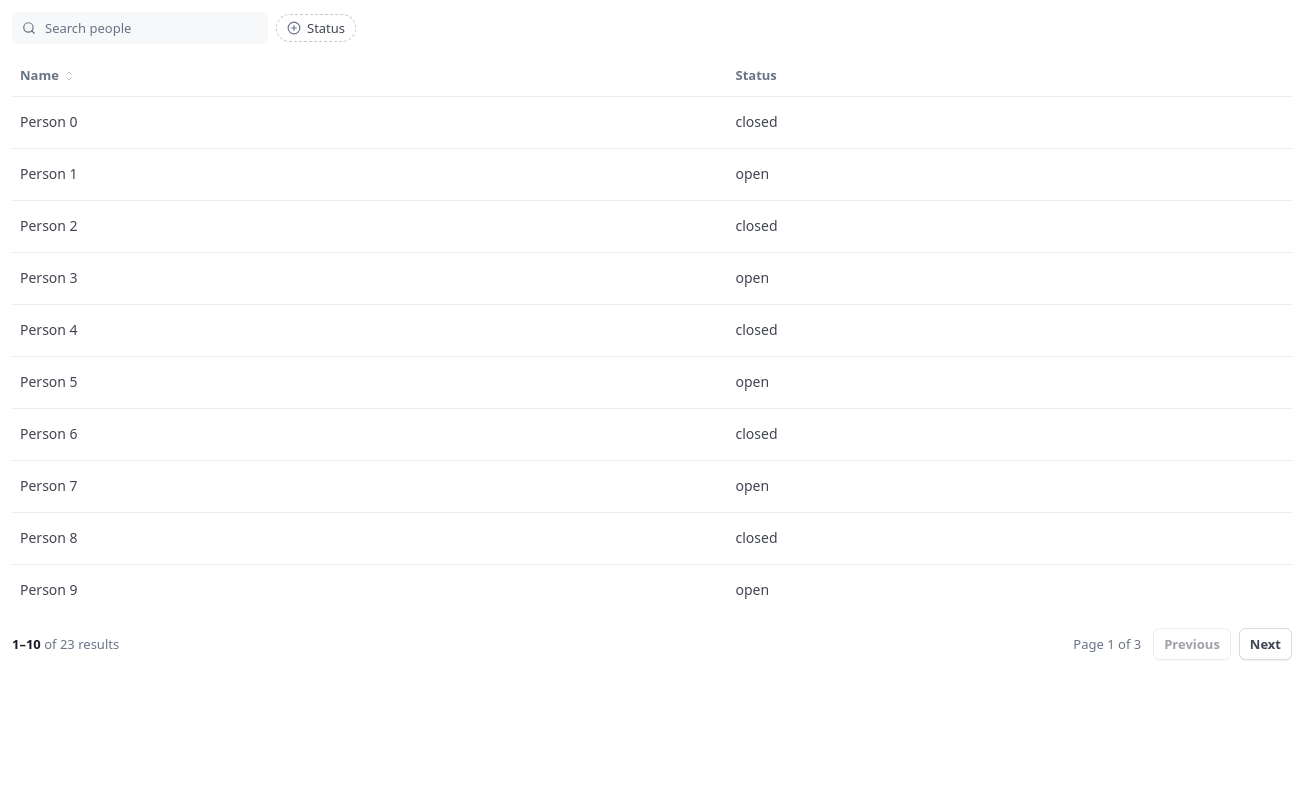
DataTable › searches, shows how many matched, and resets
Step 1. Type "Person 2" into the field labelled "Search people" → {"x": 140, "y": 28}, box [12,12,268,44]
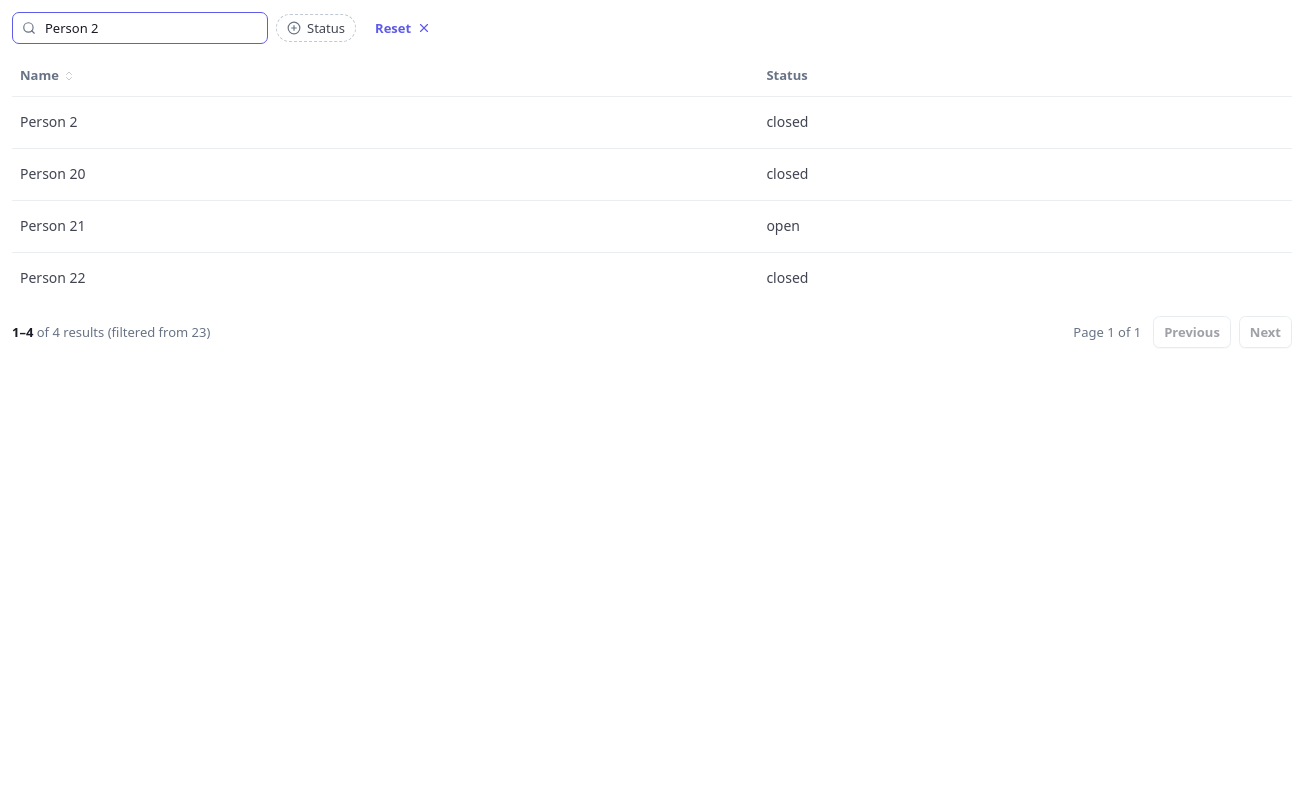
Check: the number of rows is 5, box [12,56,1292,96]; [12,96,1292,148]; [12,148,1292,200]; [12,200,1292,252]; [12,252,1292,304]
Check: the text "1–4 of 4 results (filtered from 23)" is shown, box [12,323,210,341]
Step 2. Click the button "Reset" → {"x": 403, "y": 28}, box [364,14,442,42]
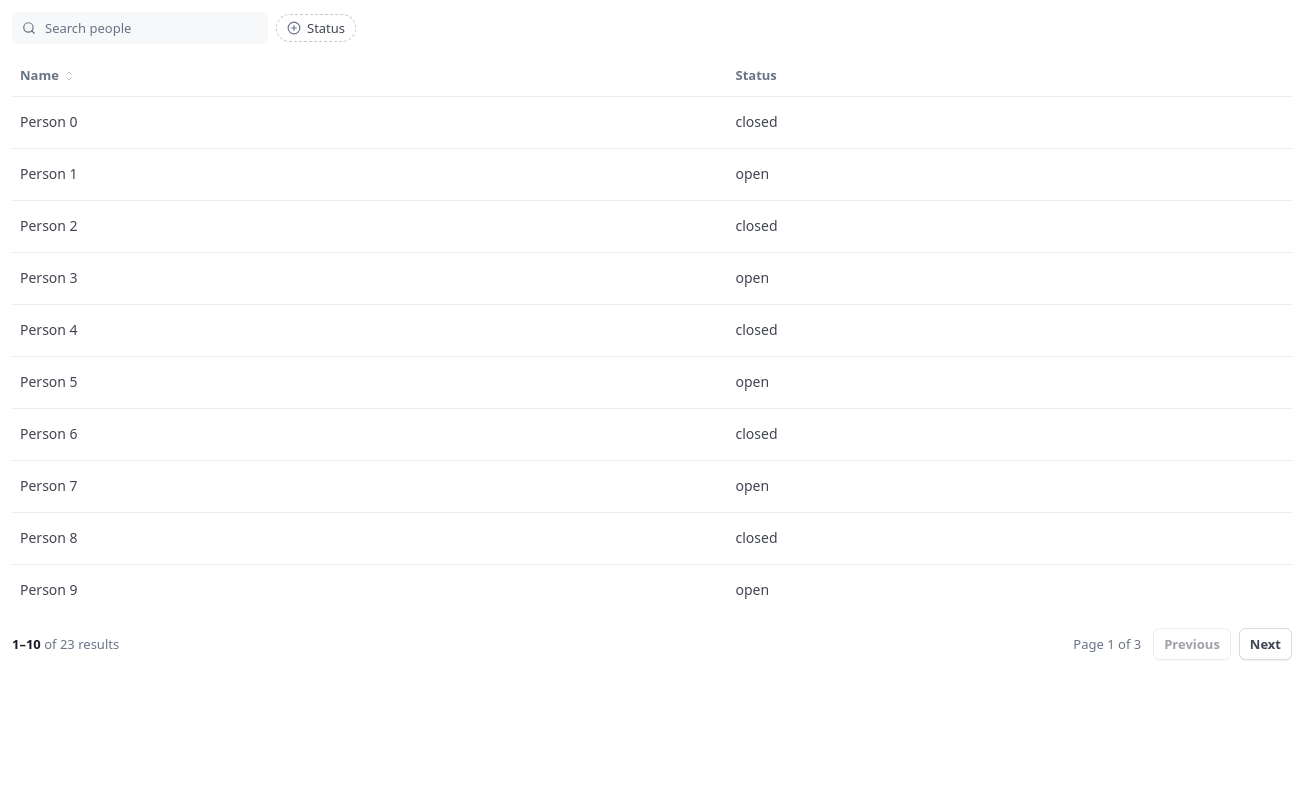
Check: the text "Page 1 of 3" is shown, box [1073,635,1141,653]
